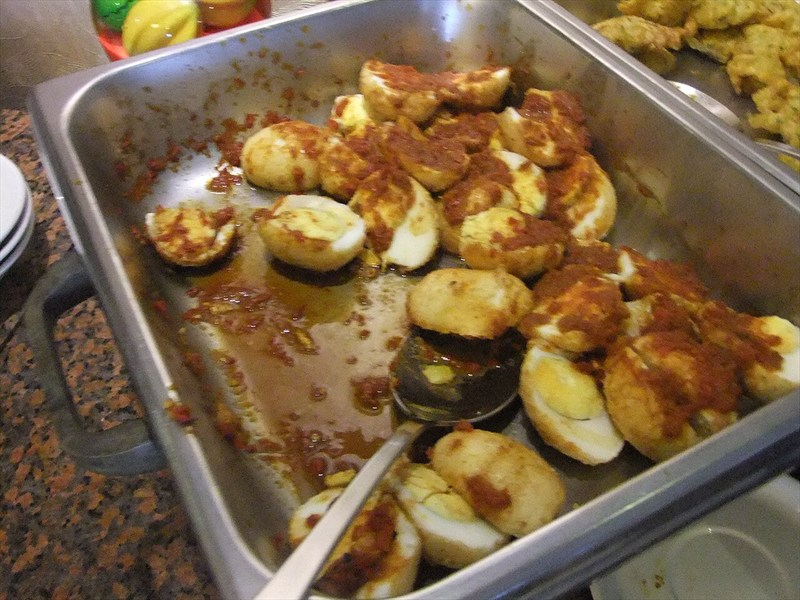Telur Balado: (107, 14, 663, 556)
